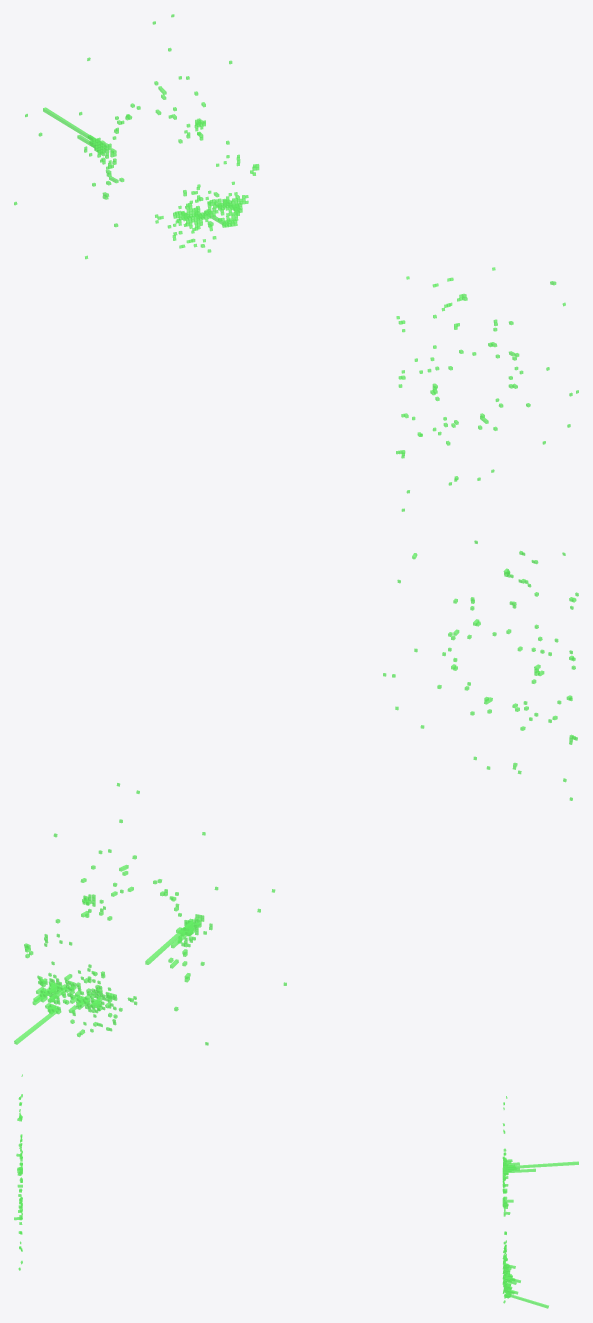
Rendered from EERecHits_V2.glb.
The picture shows the model from 3 angles, top to bottom: view 1: azimuth 30°, elevation 25°; view 2: azimuth 150°, elevation 25°; view 3: azimuth 270°, elevation 25°; orthographic projection. The views are drawn at different scales.
Visible parts, largest first — view 1: EERecHits_V2; view 2: EERecHits_V2; view 3: EERecHits_V2.
Part boxes in pixels (bbox=[...]): EERecHits_V2: bbox=[14, 14, 578, 511]; EERecHits_V2: bbox=[14, 540, 578, 1045]; EERecHits_V2: bbox=[14, 1074, 578, 1308].
Size of the model in its own units: 2.77 by 2.66 by 7.48.
